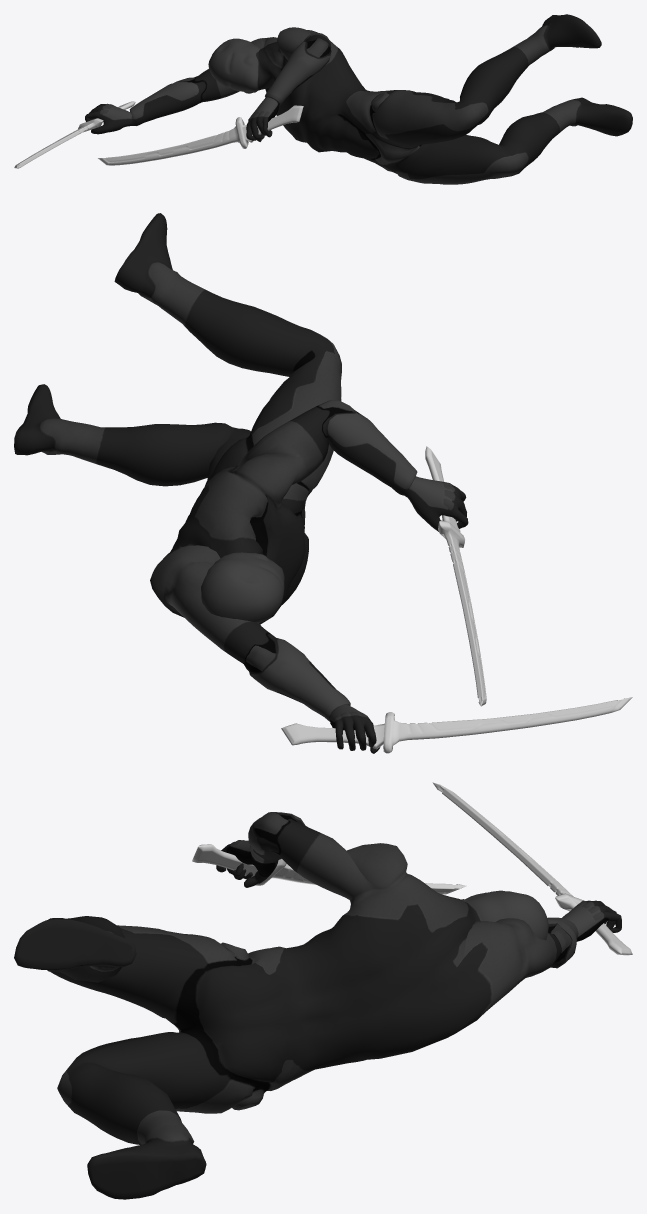
3 renders of one model, top to bottom at view 1: azimuth 30°, elevation 25°; view 2: azimuth 150°, elevation 25°; view 3: azimuth 270°, elevation 25°, orthographic. The views are drawn at different scales.
Parts seen in each view (by area): view 1: Cyborg_Ninja_Killer, Sword_l, Sword_l001; view 2: Cyborg_Ninja_Killer, Sword_l001, Sword_l; view 3: Cyborg_Ninja_Killer, Sword_l001, Sword_l.
Boxes of the visible parts, <box> form: Cyborg_Ninja_Killer: <box>85,14,632,184</box>; Sword_l: <box>98,105,303,165</box>; Sword_l001: <box>14,101,135,168</box>; Cyborg_Ninja_Killer: <box>14,213,468,753</box>; Sword_l001: <box>281,697,632,753</box>; Sword_l: <box>425,446,486,706</box>; Cyborg_Ninja_Killer: <box>14,812,621,1199</box>; Sword_l001: <box>432,782,632,955</box>; Sword_l: <box>192,844,466,894</box>.
Bounding box in the file's own units: 219 × 71.21 × 146.
